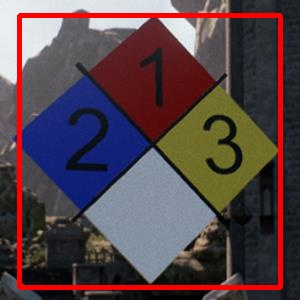nfpa: (19, 15, 280, 287)
